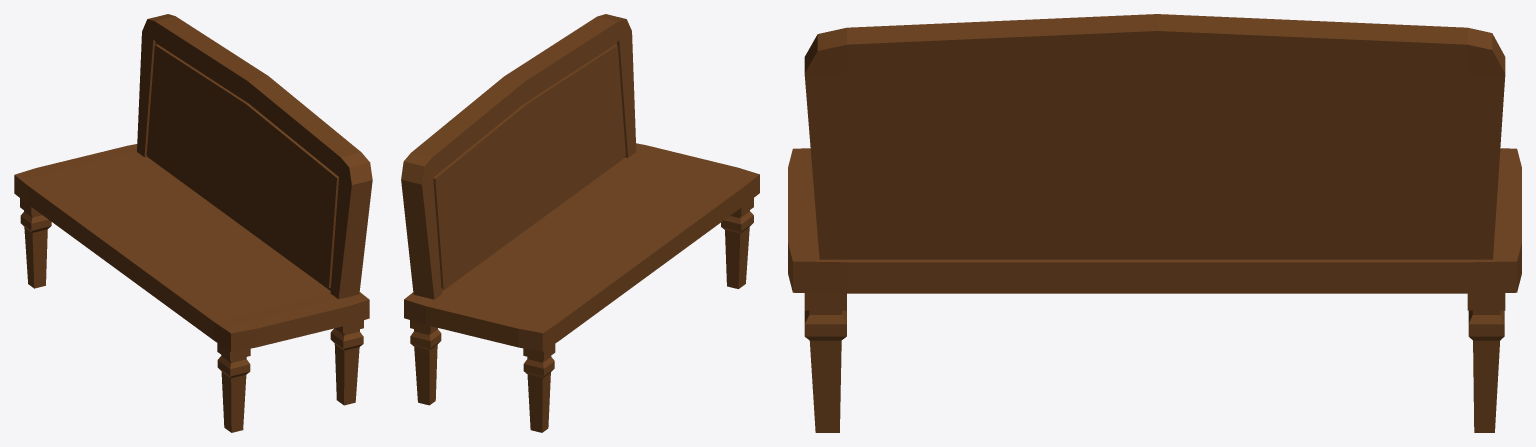
The model's file is TableChair.fbx.
3 views of the same model, side by side, from view 1: azimuth 30°, elevation 25°; view 2: azimuth 150°, elevation 25°; view 3: azimuth 270°, elevation 25° (orthographic). The views are drawn at different scales.
Parts seen in each view (by area): view 1: Cube.010; view 2: Cube.010; view 3: Cube.010.
Part boxes in pixels (<box>): Cube.010: <box>14,14,372,432</box>; Cube.010: <box>401,14,759,432</box>; Cube.010: <box>788,14,1521,432</box>.
Bounding box in the file's own units: 395 × 153 × 246.
